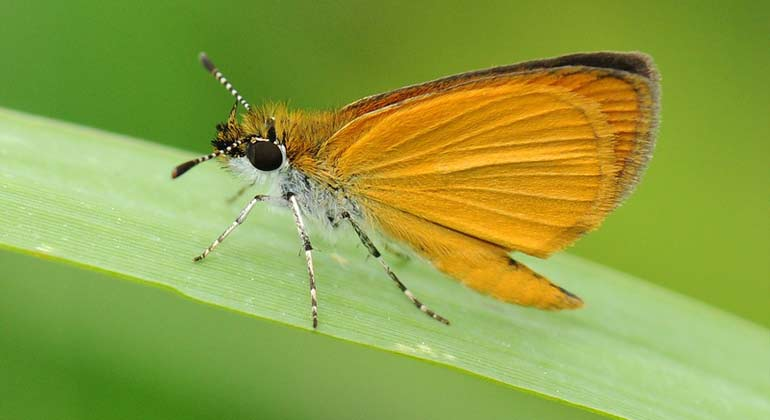Rice_skipper: (211, 52, 667, 314)
